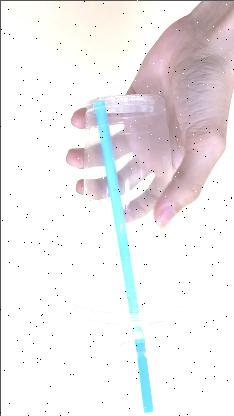Others: (66, 92, 196, 384)
